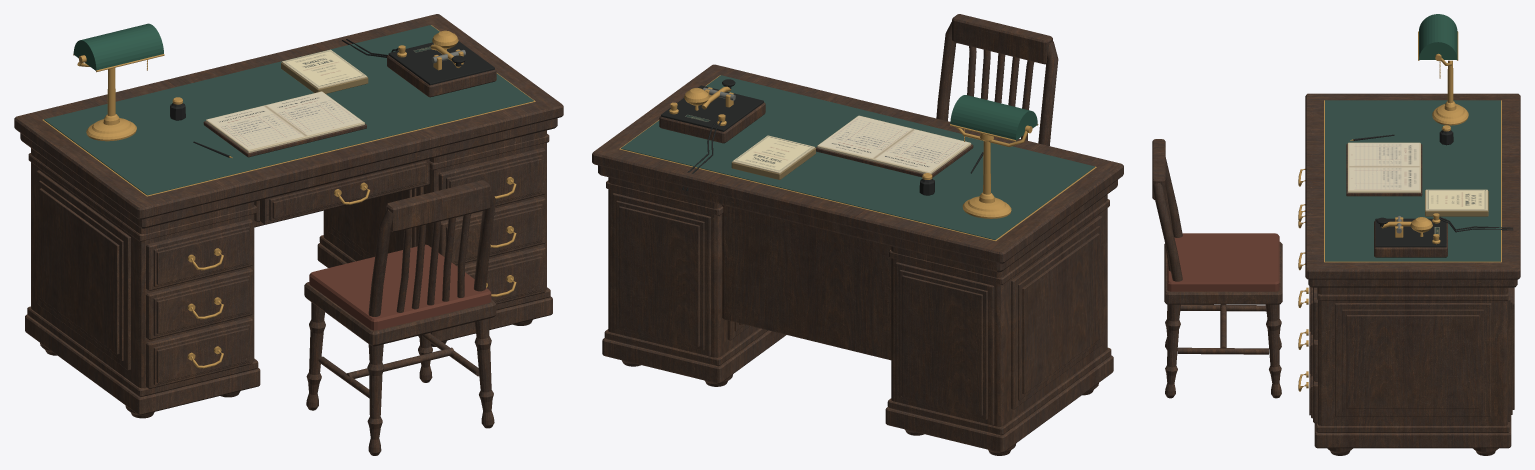
Rendered from StationmasterDesk.fbx.
3 renders of one model, left to right at view 1: azimuth 30°, elevation 25°; view 2: azimuth 150°, elevation 25°; view 3: azimuth 270°, elevation 25°, orthographic. The views are drawn at different scales.
Parts seen in each view (by area): view 1: StationmasterDesk joinery; view 2: StationmasterDesk joinery; view 3: StationmasterDesk joinery.
Boxes of the visible parts, x1,y1,x2,y2 form: StationmasterDesk joinery: (14,14,563,455); StationmasterDesk joinery: (592,14,1123,455); StationmasterDesk joinery: (1152,14,1520,455).
Size of the model in its own units: 1.6 by 1.18 by 1.41.
